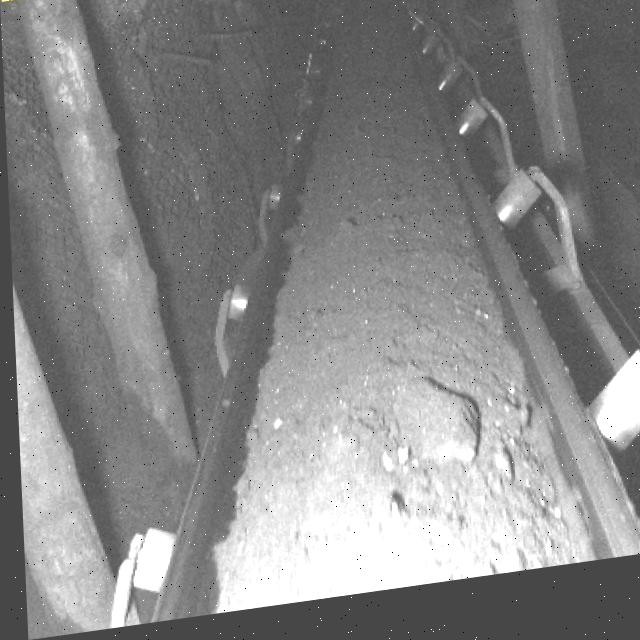large_sized_coal: (392, 382, 477, 482)
